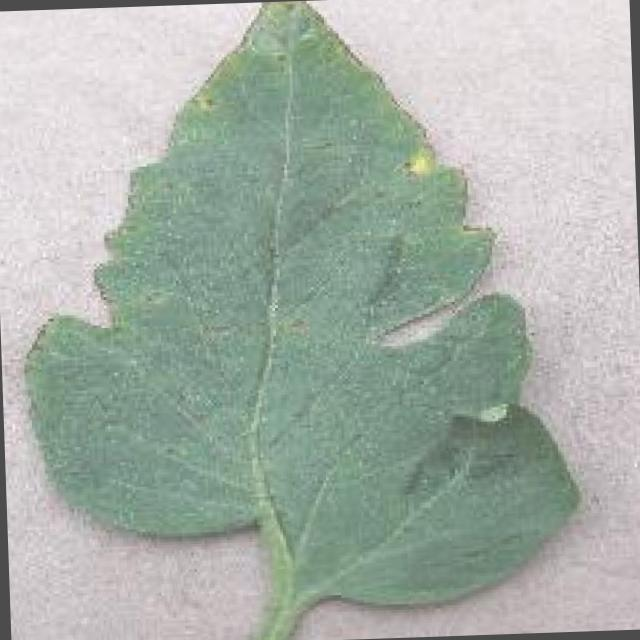bacterial spot: (23, 0, 588, 640)
